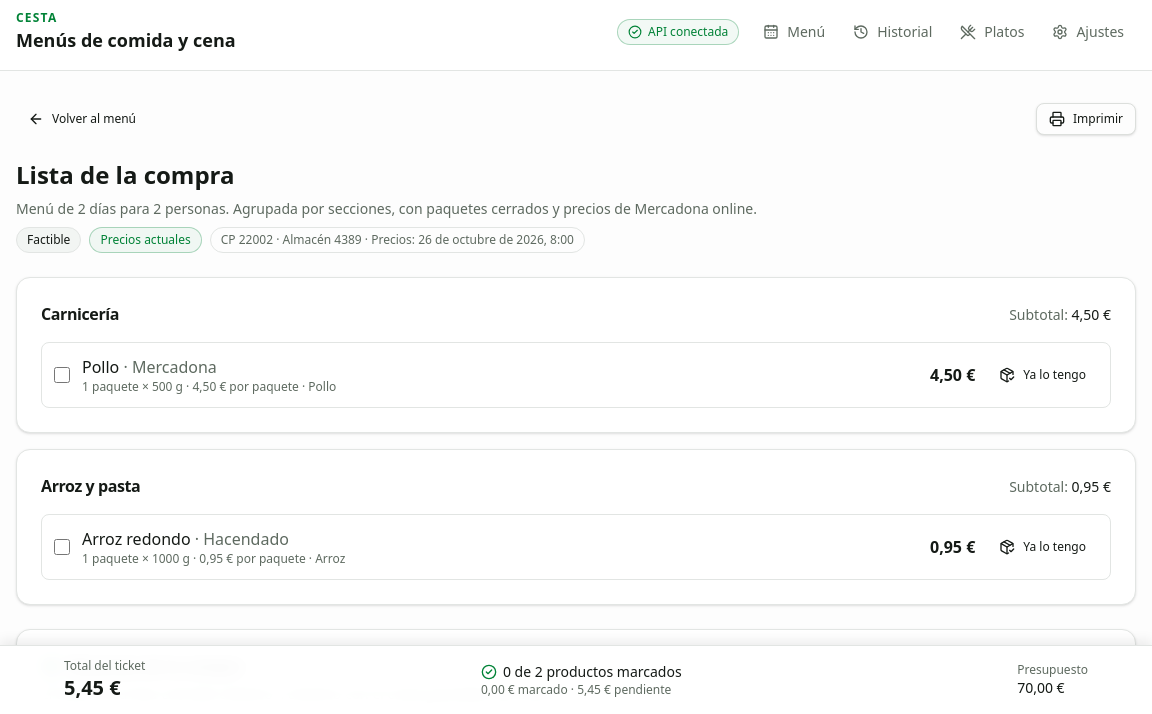
it: ShoppingListPage › «Ya lo tengo» recalcula la lista y añade el producto a la despensa del menú
Click the button with aria-label "Ya lo tengo: Pollo" at (1043, 375), box [987, 359, 1098, 391]
(page scrolled)
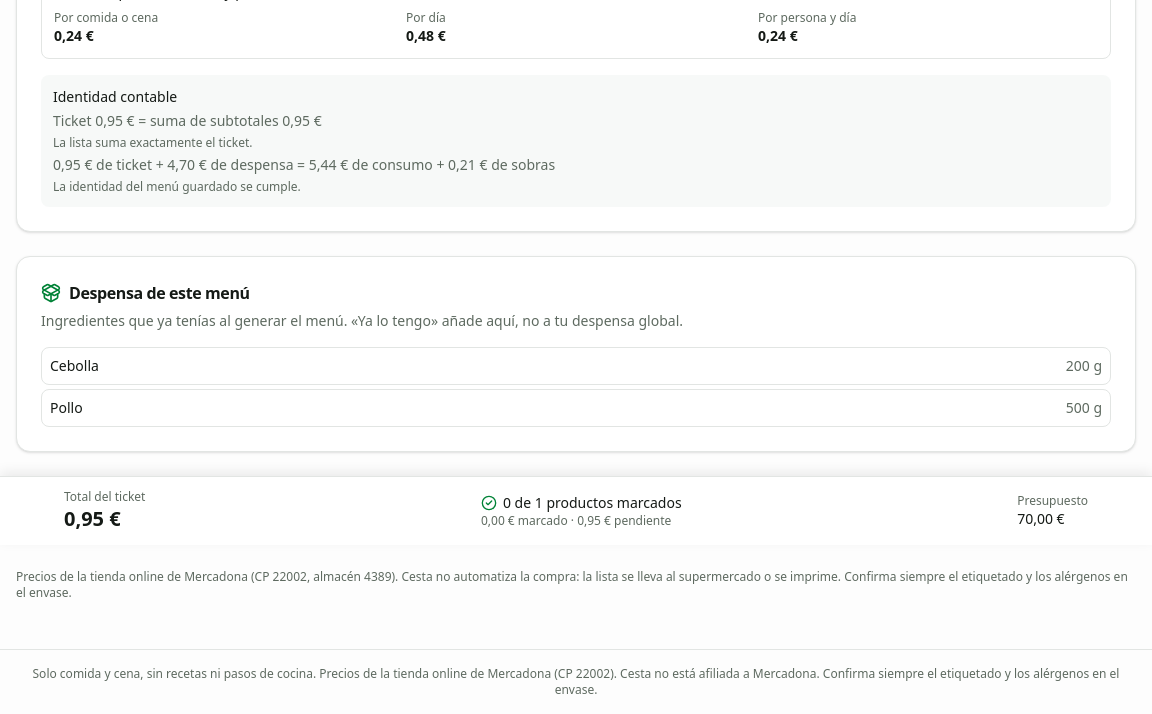
Expected: the element named "Resumen fijo de la compra" shows "0,95", [64, 505, 121, 532]
Expected: the element named "Resumen fijo de la compra" shows "0 de 1 productos marcados", [0, 476, 1151, 545]
Expected: the text with test id "accounting-identity" shows "0,95", [53, 155, 92, 174]
